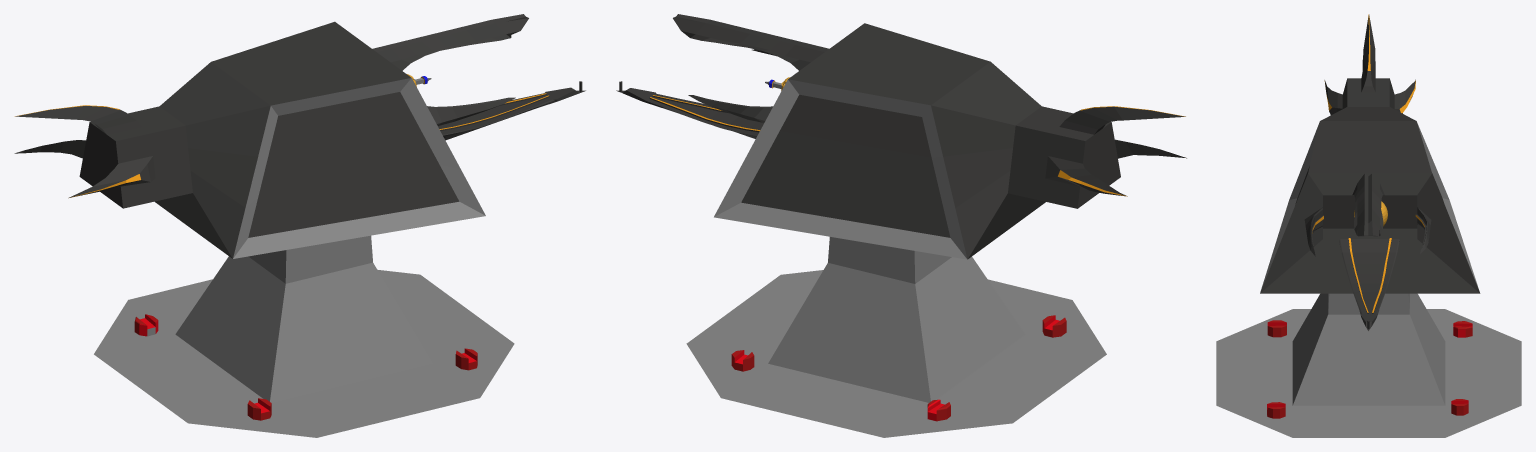
Rendered from Laser.fbx.
3 views of the same model, side by side, from view 1: azimuth 30°, elevation 25°; view 2: azimuth 150°, elevation 25°; view 3: azimuth 270°, elevation 25° (orthographic). The views are drawn at different scales.
Parts seen in each view (by area): view 1: Body, Holder; view 2: Body, Holder; view 3: Holder, Body.
Part boxes in pixels (x1,y1,x2,y2): Body: (14, 14, 585, 258); Holder: (94, 235, 514, 437); Body: (616, 14, 1186, 259); Holder: (686, 237, 1106, 437); Holder: (1216, 293, 1521, 437); Body: (1260, 14, 1480, 330).
Bounding box in the file's own units: 700 × 355 × 400.
